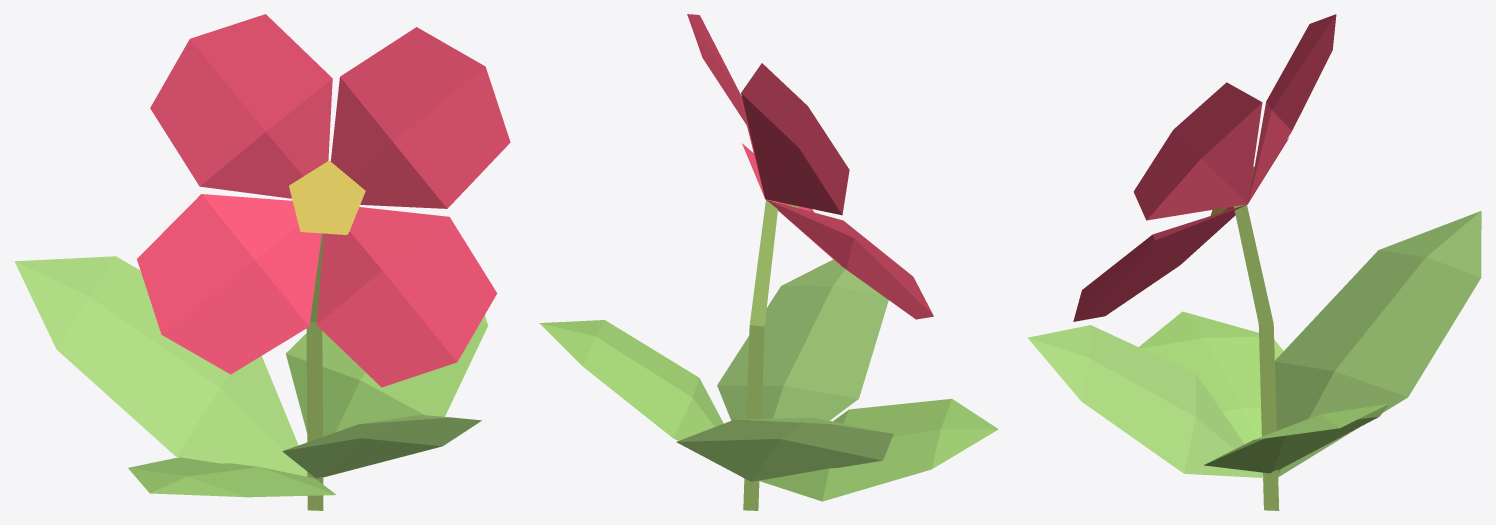
File: Flower_c_OneS_15.fbx
The picture shows the model from 3 angles, left to right: view 1: azimuth 30°, elevation 25°; view 2: azimuth 150°, elevation 25°; view 3: azimuth 270°, elevation 25°; orthographic projection. The views are drawn at different scales.
Parts seen in each view (by area): view 1: Flower_c_OneS_15; view 2: Flower_c_OneS_15; view 3: Flower_c_OneS_15.
Part boxes in pixels (x1,y1,x2,y2): Flower_c_OneS_15: (14,14,510,510); Flower_c_OneS_15: (539,14,998,510); Flower_c_OneS_15: (1028,14,1481,510).
Bounding box in the file's own units: 0.3515 × 0.4109 × 0.3594.
